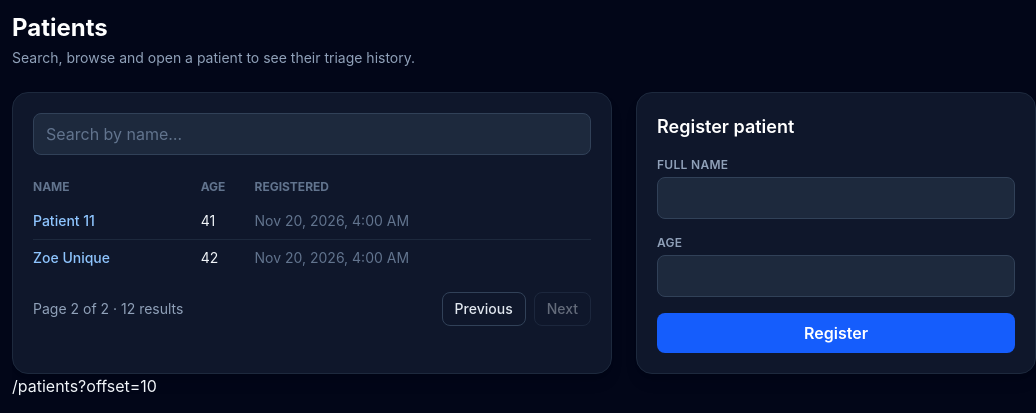
Scenario: PatientsPage › puts the settled search in the URL and starts again from page 1
expect the text "Page 2 of 2 · 12 results" is shown: met, box [33,299,183,319]
Type "zoe" into the search field at x=312, y=134, box [33,113,591,155]
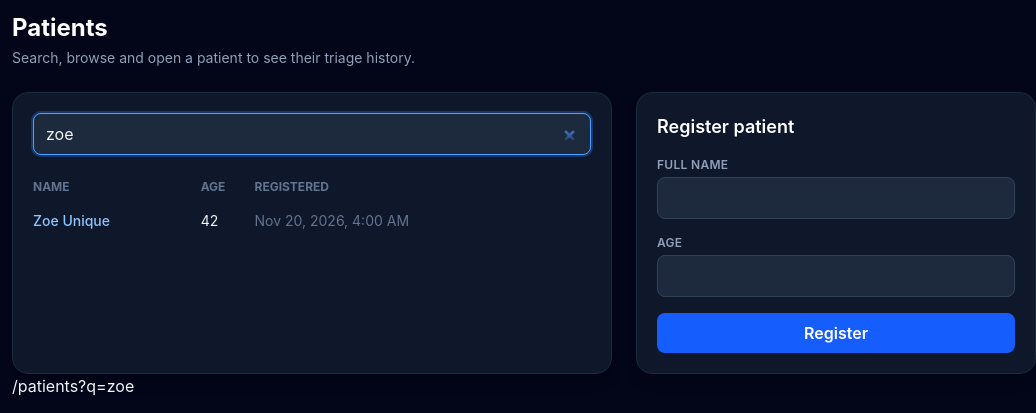
expect the link "Zoe Unique" is shown: met, box [33,212,110,229]
expect the text with test id "location" reads "/patients?q=zoe": met, box [12,376,134,396]
